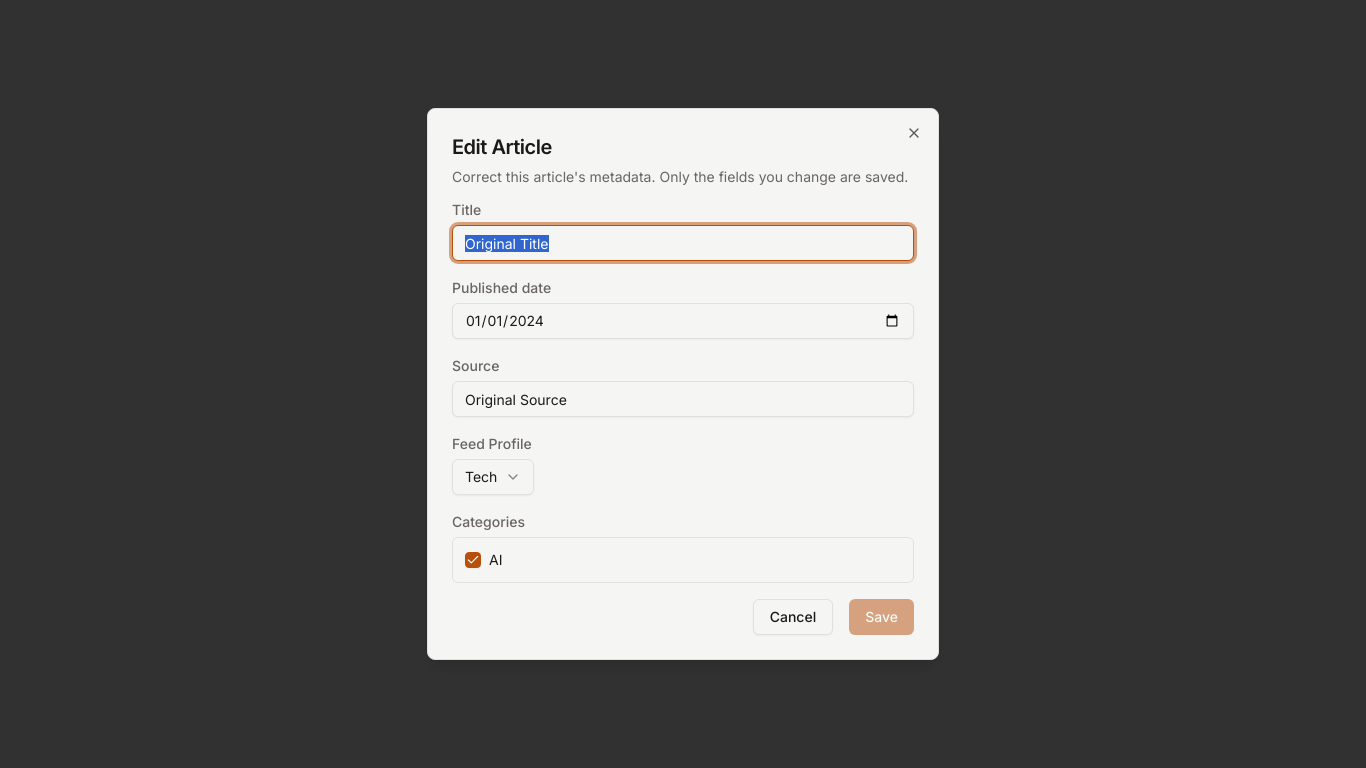
it: EditArticleModal › disables Save while inputs are invalid
Expected: the button "Save" is disabled, left=849, top=599, right=914, bottom=635
Clear the field labelled "Title" at point(683, 243), box left=452, top=225, right=914, bottom=261
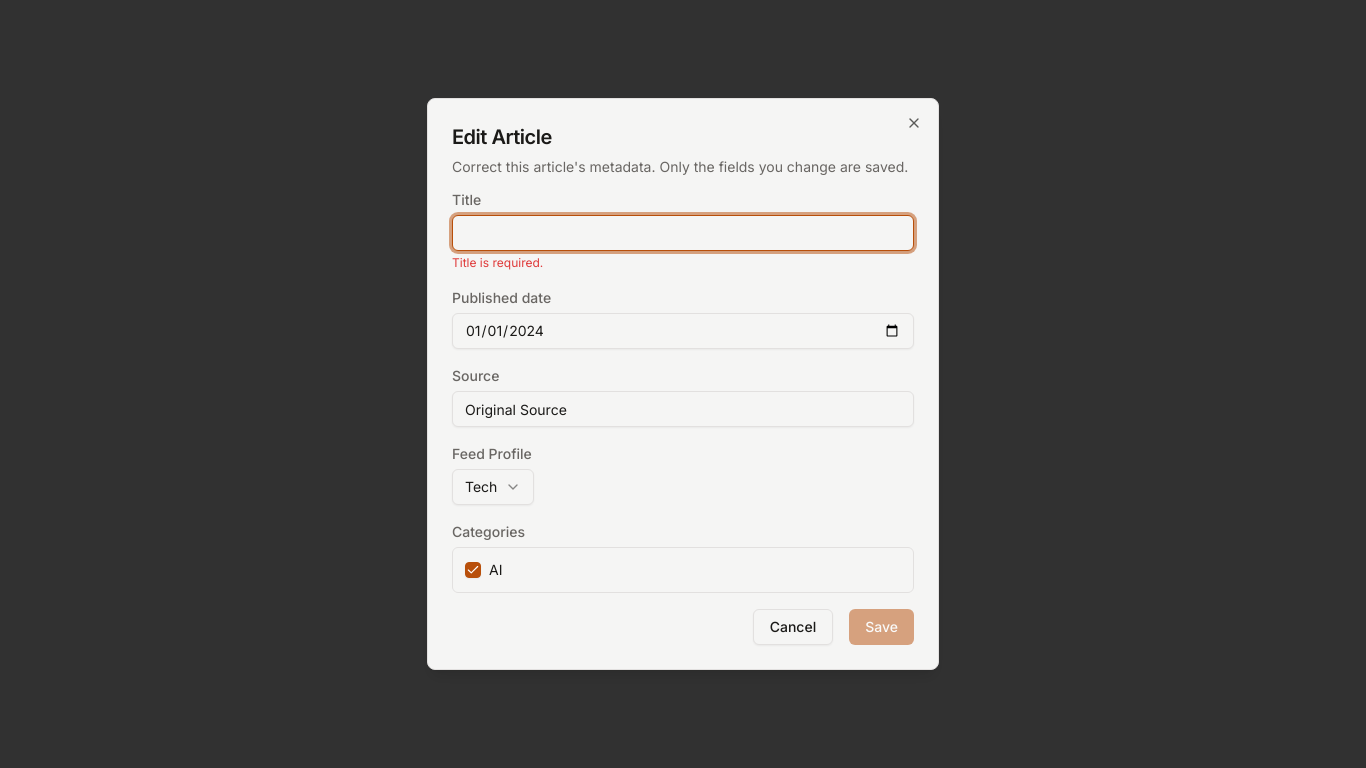
Expected: the button "Save" is disabled, left=849, top=609, right=914, bottom=645
Type "Valid" into the field labelled "Title" at point(683, 233), box left=452, top=215, right=914, bottom=251
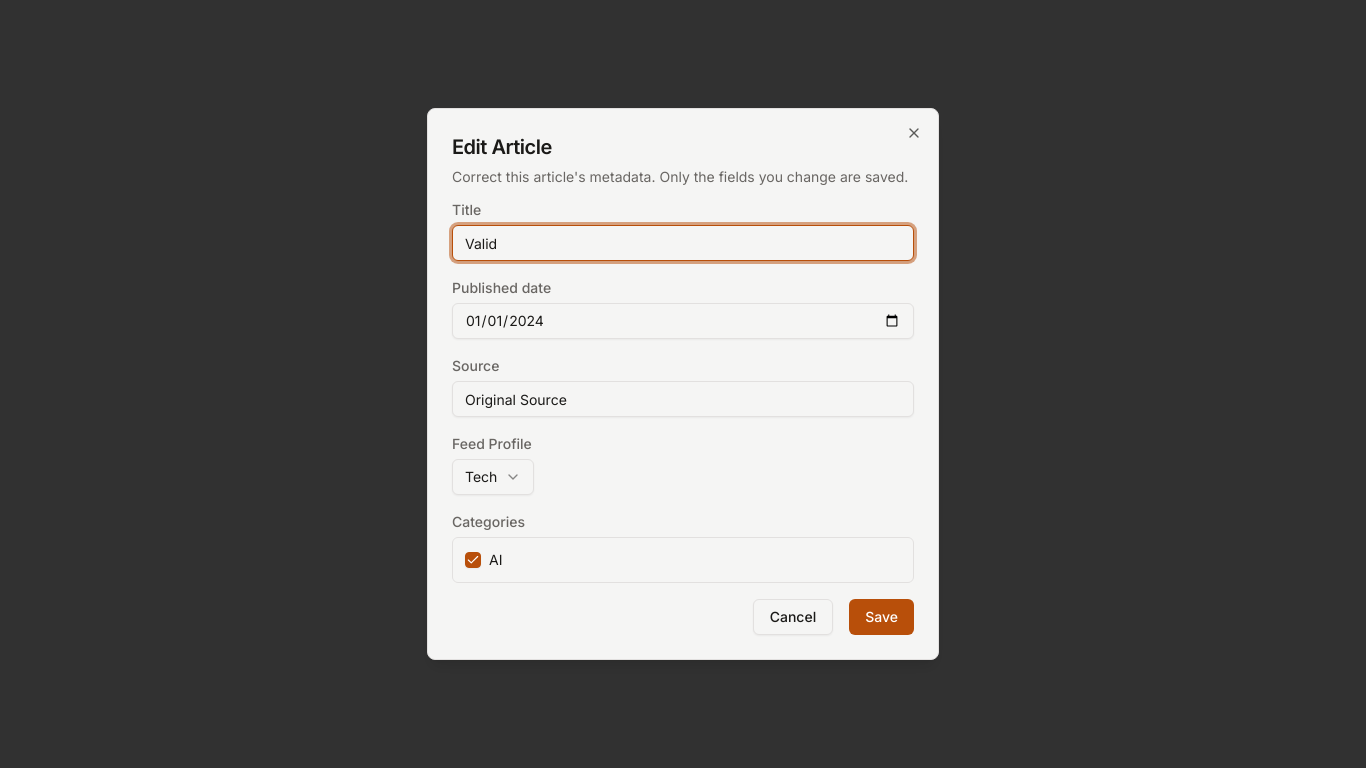
Type "2999-01-01" into the date field labelled "Published date" at point(683, 321), box left=452, top=303, right=914, bottom=339
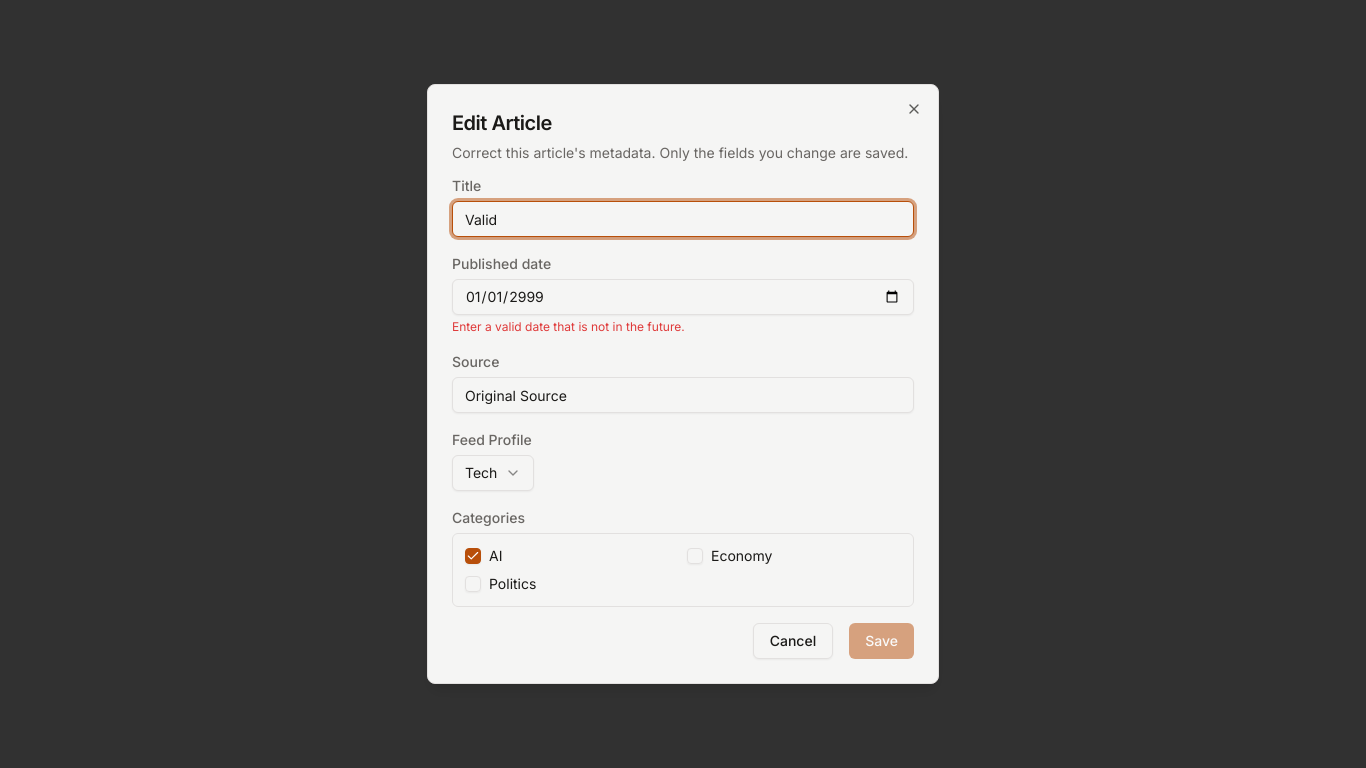
Now the button "Save" is disabled, box left=849, top=623, right=914, bottom=659
